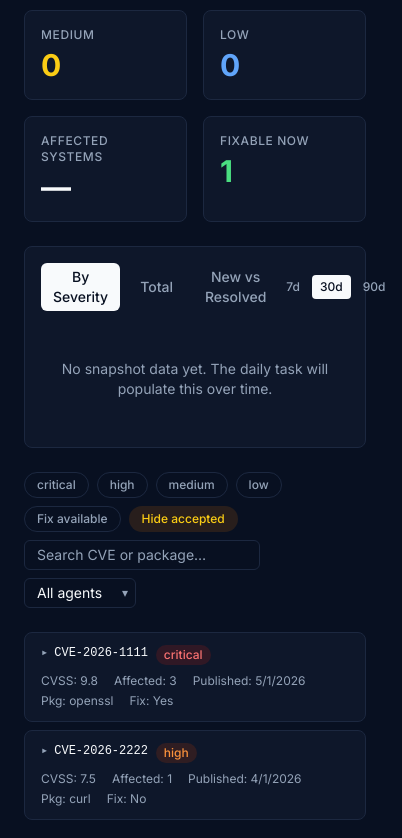
VulnerabilityDashboard — responsive CVE list › expands the advisory detail inside the mobile card
(page scrolled)
Check: the text "Remediation" is not shown
Click the button with aria-label "Toggle CVE-2026-1111 details" at (195, 677), box [25, 633, 365, 721]
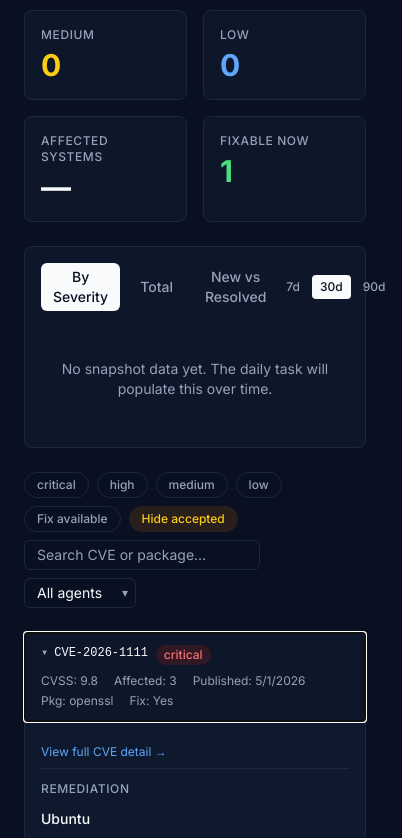
Check: the text "Remediation" is shown, box [41, 781, 130, 796]
Collapsing hides it again.
Click the button with aria-label "Toggle CVE-2026-1111 details" at (195, 677), box [25, 633, 365, 721]
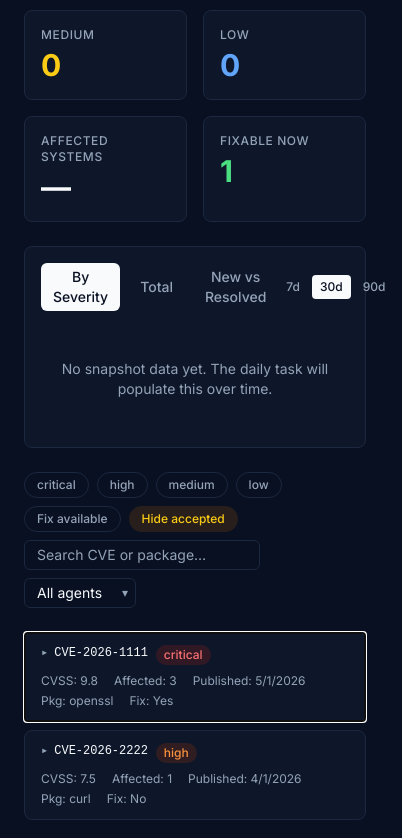
Check: the text "Remediation" is gone
